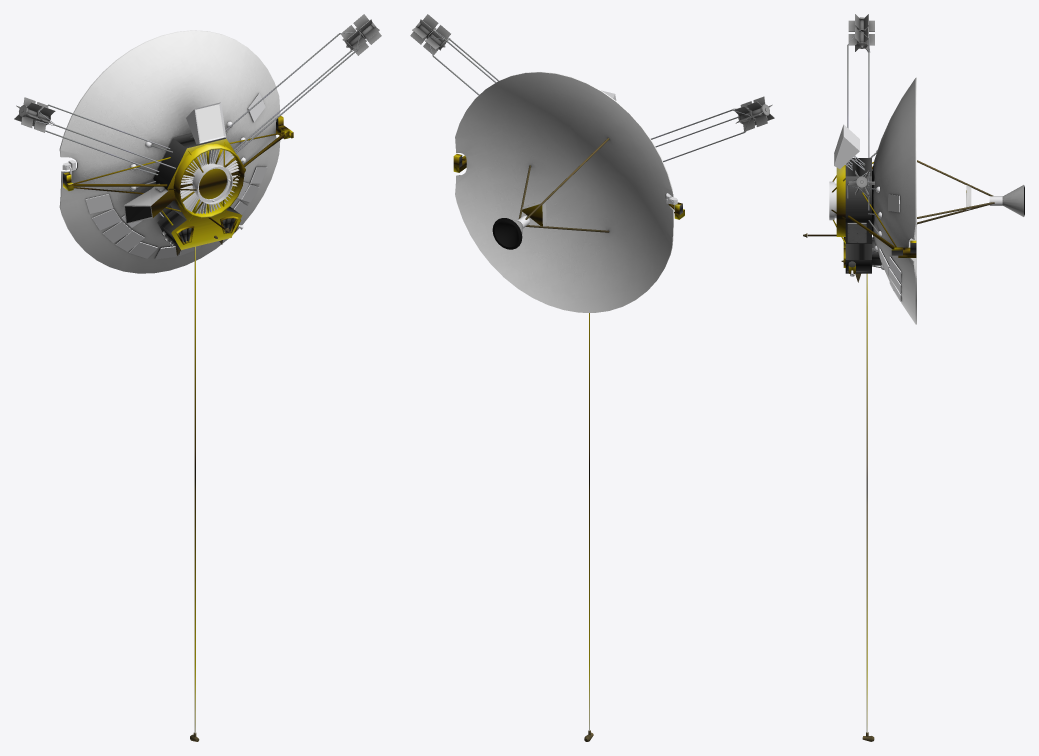
File: pioneer.glb
The picture shows the model from 3 angles, left to right: view 1: azimuth 30°, elevation 25°; view 2: azimuth 150°, elevation 25°; view 3: azimuth 270°, elevation 25°; orthographic projection. The views are drawn at different scales.
Parts seen in each view (by area): view 1: AO_dish, Foil_gold, Norm_silver, Tex_02, Foil_silver, AO_rtg, Foil_trans; view 2: AO_dish, AO_rtg, Tex_02, Foil_gold, Tex_black; view 3: AO_dish, Foil_silver, Foil_gold, Norm_silver, Tex_02, AO_rtg, Tex_01.
Part boxes in pixels (x1,y1,x2,y2): AO_dish: (59, 30, 280, 273); Foil_gold: (63, 116, 293, 733); Norm_silver: (62, 93, 267, 259); Tex_02: (34, 32, 360, 741); Foil_silver: (63, 118, 278, 249); AO_rtg: (14, 14, 381, 132); Foil_trans: (196, 104, 223, 141); AO_dish: (455, 72, 673, 312); AO_rtg: (410, 14, 774, 131); Tex_02: (428, 30, 755, 741); Foil_gold: (453, 154, 684, 730); Tex_black: (492, 218, 522, 249); AO_dish: (872, 77, 1023, 324); Foil_silver: (845, 158, 916, 273); Foil_gold: (807, 162, 966, 732); Norm_silver: (829, 124, 1002, 301); Tex_02: (803, 30, 994, 741); AO_rtg: (848, 14, 874, 195); Tex_01: (847, 223, 866, 242).
Bounding box in the file's own units: 4.52 × 8.25 × 2.54.
Materials: 10 (8 with a texture image).
